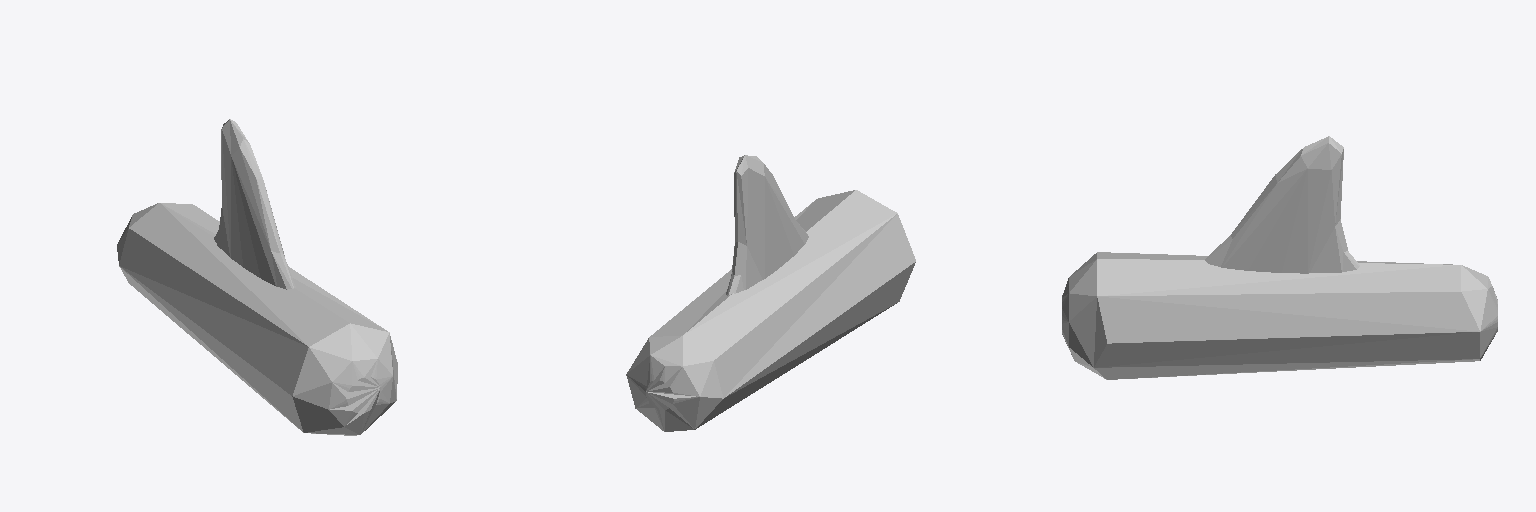
File: boidSegmentLo.obj
3 views of the same model, side by side, from view 1: azimuth 30°, elevation 25°; view 2: azimuth 150°, elevation 25°; view 3: azimuth 270°, elevation 25° (orthographic).
Parts seen in each view (by area): view 1: Cylinder1_default, Cube2_default; view 2: Cylinder1_default, Cube2_default; view 3: Cylinder1_default, Cube2_default.
Boxes of the visible parts, box(x1,y1,x2,y2) form: Cylinder1_default: box(117, 203, 397, 435); Cube2_default: box(214, 119, 295, 289); Cylinder1_default: box(626, 190, 915, 431); Cube2_default: box(726, 155, 808, 295); Cylinder1_default: box(1062, 252, 1497, 379); Cube2_default: box(1205, 136, 1359, 273).
Bounding box in the file's own units: 0.8048 × 1.63 × 2.7.